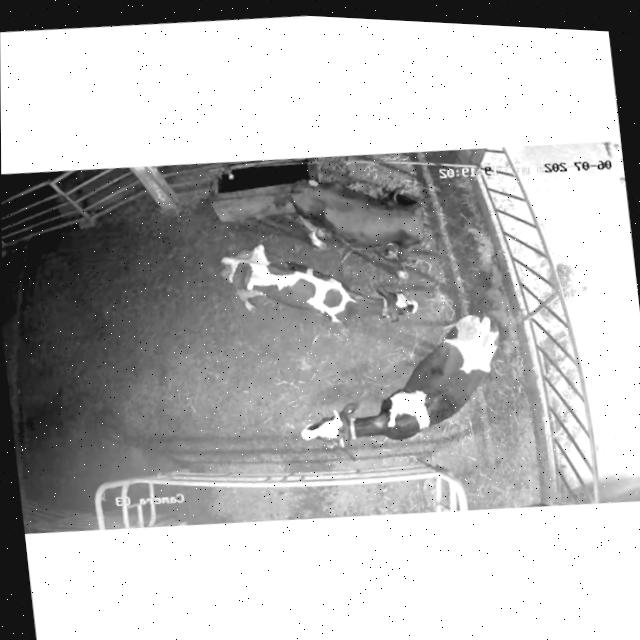stand: (279, 296, 515, 480), (202, 223, 427, 344), (275, 162, 437, 272)
